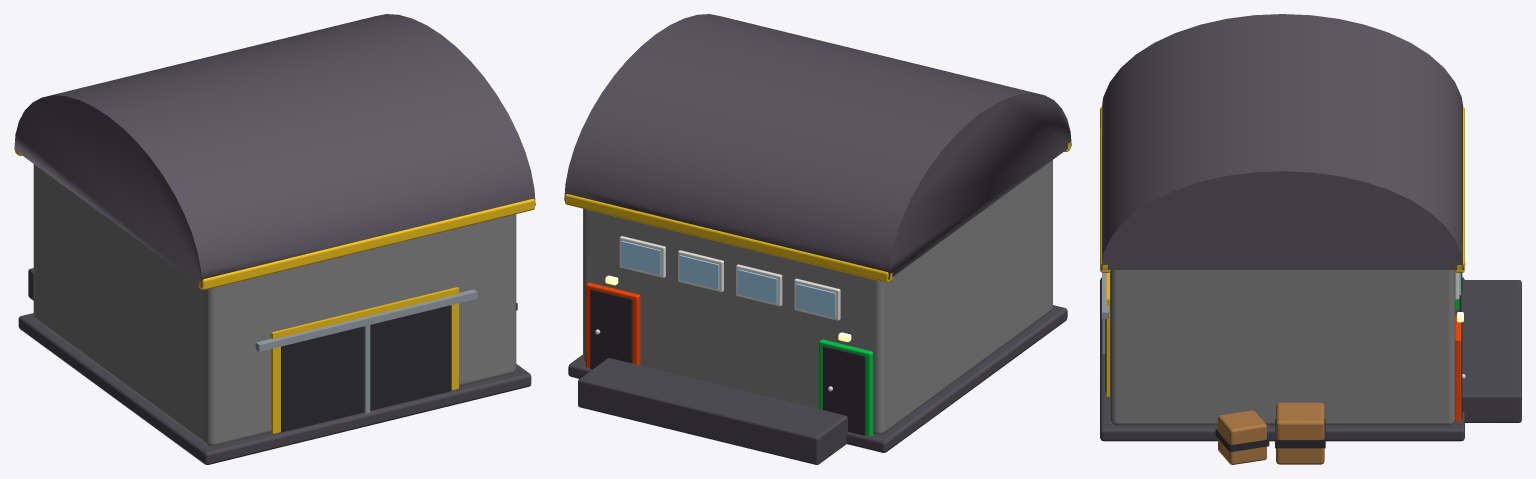
File: building_freight_warehouse_t1.glb
3 views of the same model, side by side, from view 1: azimuth 30°, elevation 25°; view 2: azimuth 150°, elevation 25°; view 3: azimuth 270°, elevation 25° (orthographic). The views are drawn at different scales.
Visible parts, largest first — view 1: Roof.Barrel, Walls, BigDoor, Plinth, Eave, BigDoor.Frame, BigDoor.Rail, BigDoor.Split; view 2: Roof.Barrel, Walls, Dock, Plinth, Eave.001, Entry.Leaf, Exit.Leaf, Exit.Frame, Entry.Frame, HighWin.Pane.001, HighWin.Pane.002, HighWin.Pane.003 (+5 smaller); view 3: Roof.Barrel, Walls, Dock, Plinth, Crate1.Box, Crate2.Box, Exit.Frame, Crate1.Band, BigDoor.Frame, Crate2.Band.
Part boxes in pixels (box(x1,y1,x2,y2)): Roof.Barrel: box(14, 14, 535, 287); Walls: box(33, 164, 516, 446); BigDoor: box(281, 305, 451, 432); Plinth: box(18, 313, 531, 464); Eave: box(198, 199, 534, 289); BigDoor.Frame: box(270, 287, 458, 433); BigDoor.Rail: box(255, 289, 477, 351); BigDoor.Split: box(364, 325, 370, 413); Roof.Barrel: box(564, 14, 1071, 279); Walls: box(583, 160, 1052, 434); Dock: box(578, 358, 847, 464); Plinth: box(568, 305, 1067, 452); Eave.001: box(565, 194, 892, 282); Entry.Leaf: box(823, 346, 865, 435); Exit.Leaf: box(590, 289, 632, 369); Exit.Frame: box(586, 282, 640, 367); Entry.Frame: box(819, 339, 873, 436); HighWin.Pane.001: box(737, 269, 777, 303); HighWin.Pane.002: box(679, 255, 719, 289); HighWin.Pane.003: box(621, 241, 660, 275); Roof.Barrel: box(1101, 14, 1463, 269); Walls: box(1110, 270, 1455, 425); Dock: box(1459, 280, 1521, 422); Plinth: box(1100, 277, 1464, 441); Crate1.Box: box(1276, 402, 1324, 464); Crate2.Box: box(1218, 410, 1266, 464); Exit.Frame: box(1455, 315, 1461, 421); Crate1.Band: box(1275, 419, 1325, 448); BigDoor.Frame: box(1106, 272, 1109, 396); Crate2.Band: box(1215, 429, 1269, 452).
Bounding box in the file's own units: 4.79 × 3.38 × 4.74.
